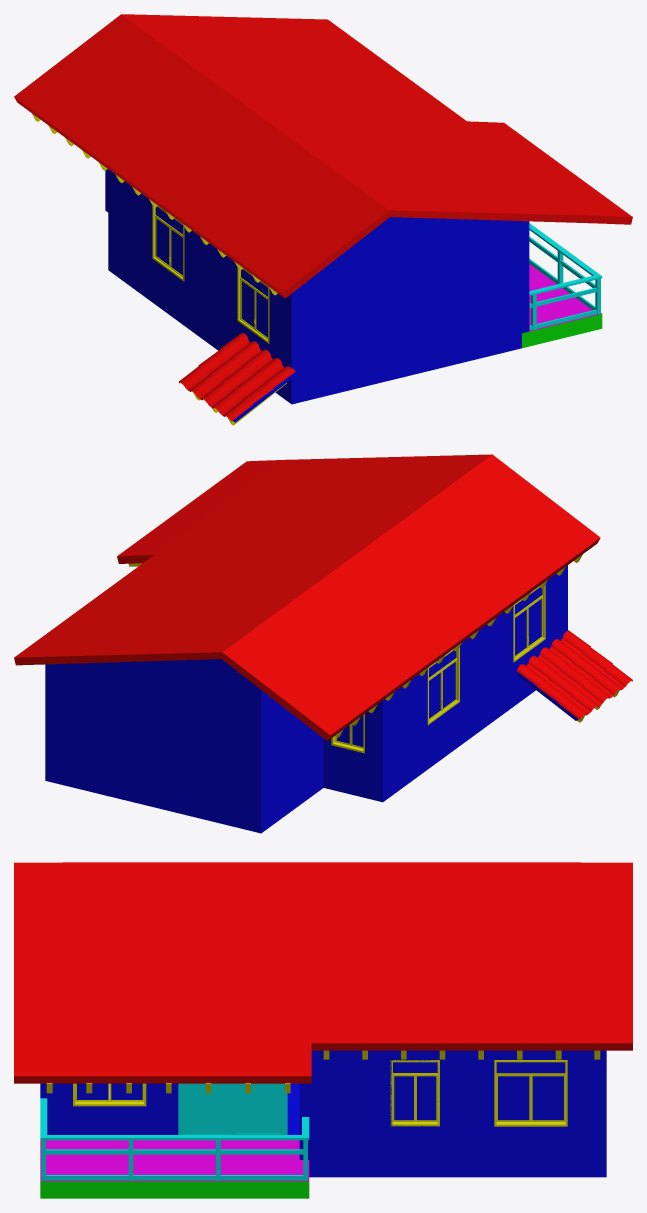
The model's file is estructura-piso2.fbx.
The picture shows the model from 3 angles, top to bottom: view 1: azimuth 30°, elevation 25°; view 2: azimuth 150°, elevation 25°; view 3: azimuth 270°, elevation 25°; orthographic projection. The views are drawn at different scales.
Parts seen in each view (by area): view 1: piso2_17, piso2_16, piso2_21, piso2_22, piso2_15, piso2_12; view 2: piso2_17, piso2_16, piso2_21, piso2_22, piso2_18; view 3: piso2_17, piso2_16, piso2_15, piso2_22, piso2_12, piso2_9, piso2_18.
Boxes of the visible parts, x1,y1,x2,y2 form: piso2_17: (14,14,632,298); piso2_16: (105,169,529,404); piso2_21: (179,332,295,421); piso2_22: (152,206,269,343); piso2_15: (522,264,602,348); piso2_12: (529,223,602,329); piso2_17: (14,454,600,741); piso2_16: (45,565,567,833); piso2_21: (517,630,632,719); piso2_22: (331,585,545,753); piso2_18: (128,554,582,737); piso2_17: (14,862,632,1083); piso2_16: (40,1050,606,1177); piso2_15: (40,1083,309,1198); piso2_22: (73,1060,567,1126); piso2_12: (40,1098,309,1180); piso2_9: (180,1083,285,1134); piso2_18: (46,1050,600,1093).
Bounding box in the file's own units: 1103 × 517 × 1300.
